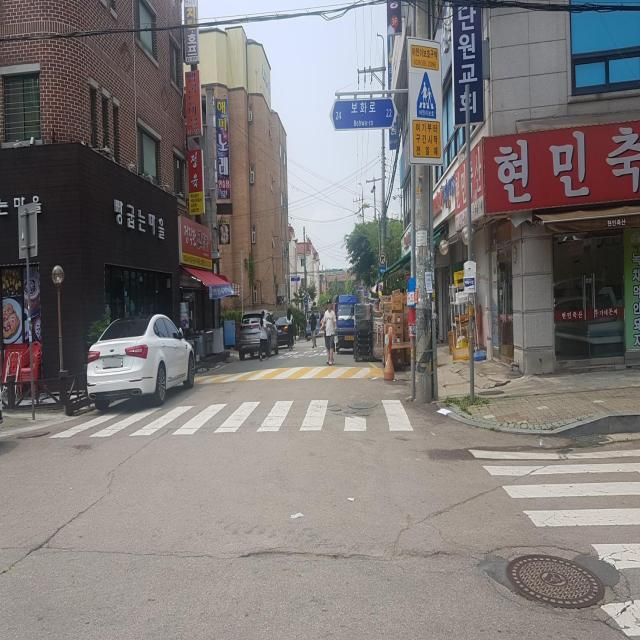횡단보도: (467, 448, 640, 638), (24, 392, 414, 438)
